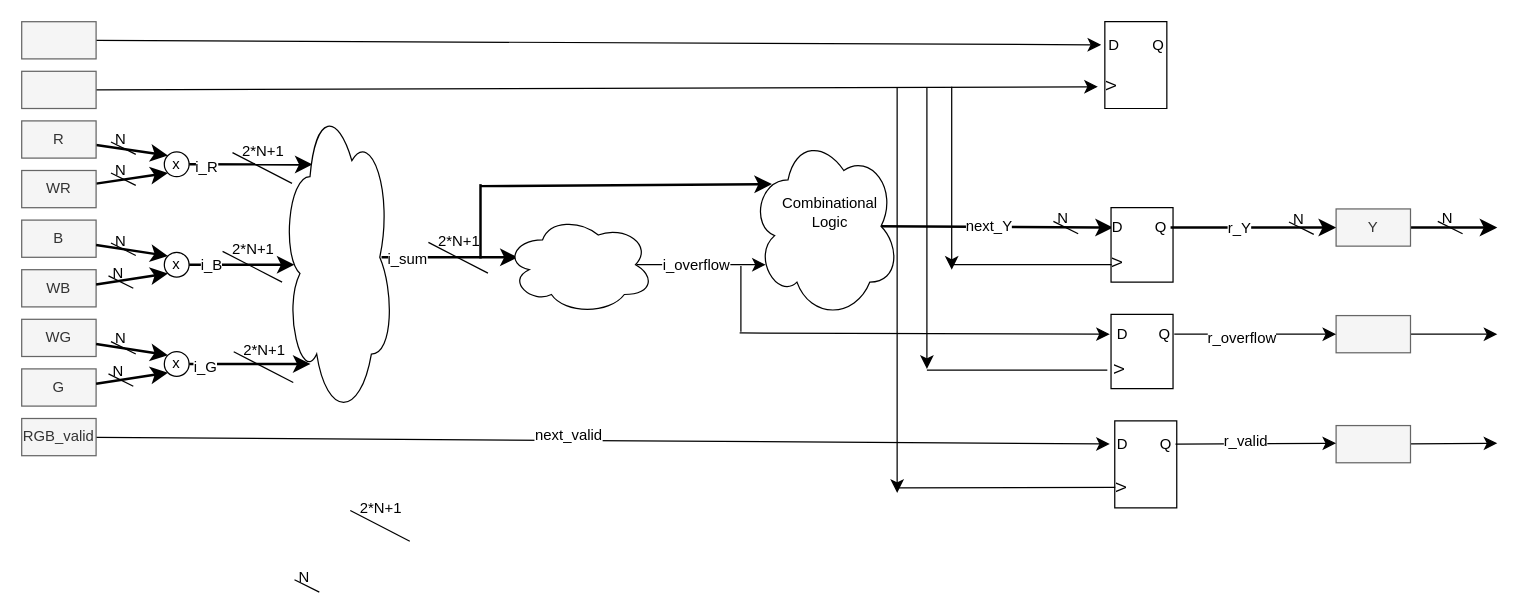
Image size: 1518x614. Some labels were removed from this diagram. Each missing label, with the centre of its shape:
"clk" goes at point 58,89.
"Combin- ational Logic" goes at point 337,256.
"Combinatorial logic" goes at point 579,264.
"overflow" goes at point 1372,333.
"reset" goes at point 58,39.
"Y_valid" goes at point 1372,443.
